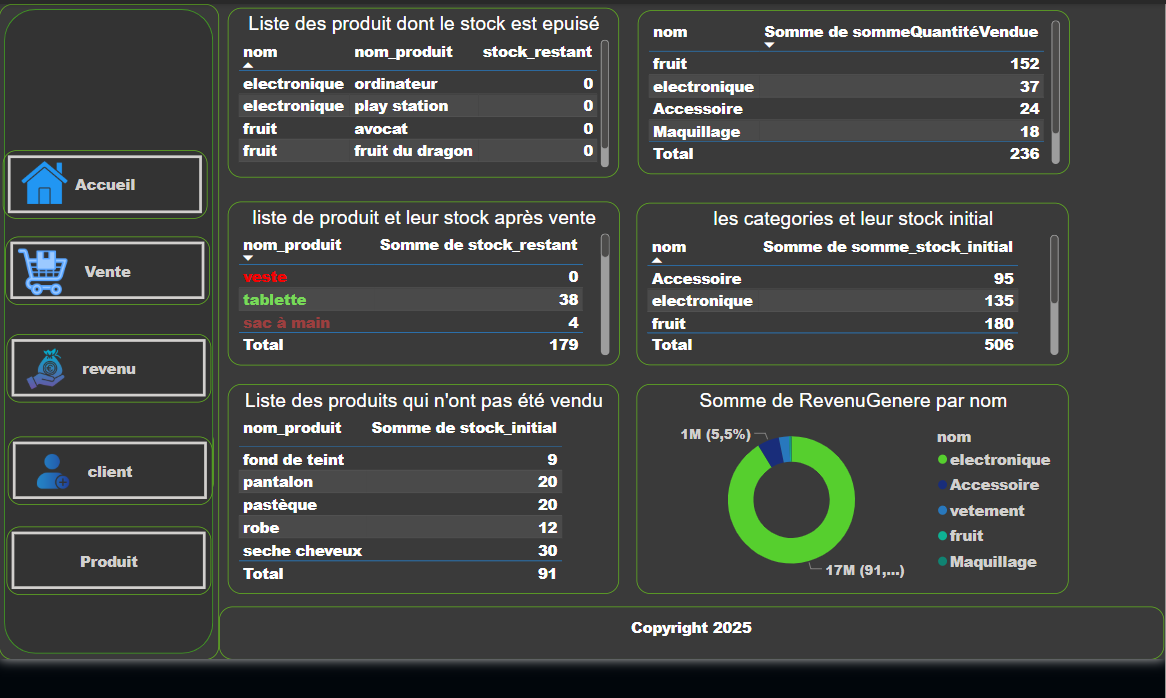

Layout of this report page (visuals, bound fields, positions):
{"tool":"powerbi","page":{"name":"produit","canvas":[1280,720],"ordinal":1},"visuals":[{"type":"tableEx","fields":{"Values":["topProduitMensuel.mois","topProduitMensuel.nom_produit","Sum(topProduitMensuel.total_quantite)"]},"box":[232.3,440.4,354.9,279.4],"z":0},{"type":"tableEx","fields":{"Values":["topProduitMensuelRevenu.mois","topProduitMensuelRevenu.nom_produit","Sum(topProduitMensuelRevenu.revenu_genere)","Sum(topProduitMensuelRevenu.total_quantite)"]},"box":[0,201,510.3,202.4],"z":1000},{"type":"tableEx","fields":{"Values":["stock_restant.nom","stock_restant.nom_produit","stock_restant.stock_initial","stock_restant.sommeQuantitéVendue","stock_restant.stock_restant"]},"box":[0,0,640,339.2],"z":2000},{"type":"clusteredColumnChart","title":"repartition","fields":{"Category":["repartition_quantité_categorie.nom"],"Y":["Sum(repartition_quantité_categorie.Expr1)"]},"box":[0,403.4,510.3,316.4],"z":3000},{"type":"clusteredColumnChart","fields":{"Category":["stock_restant.nom_produit"],"Y":["Sum(stock_restant.sommeQuantitéVendue)"]},"box":[0,320.7,640,399.1],"z":4000},{"type":"tableEx","title":"Liste de produit dont le stock est vide","fields":{"Values":["stock_restant.nom_produit","Sum(stock_restant.stock_restant)"]},"box":[960.7,155.4,319.3,195.3],"z":5000},{"type":"tableEx","fields":{"Values":["stock_restant.nom","Sum(stock_restant.stock_initial)","Sum(stock_restant.sommeQuantitéVendue)"]},"box":[640,0,640,155.4],"z":6000},{"type":"tableEx","fields":{"Values":["information_vente.nom","information_vente.nom_produit","Sum(information_vente.sommeQuantite)"]},"box":[640,320.7,453.3,374.9],"z":7000},{"type":"tableEx","fields":{"Values":["Repartition_revenu_categorie.nom","Sum(Repartition_revenu_categorie.revenu_genere)"]},"box":[640,169.6,320.7,151.1],"z":8000},{"type":"slicer","fields":{"Values":["stock_restant.nom"]},"box":[1093,351,187,345],"z":9000}]}

Visuals, with their boxes on the page's 1280x720 design canvas (x1, y1, x2, y2). These are canvas units, not pixel positions in the 1166x698 screenshot, which may show the page scaled, cropped or inside an application window:
tableEx - topProduitMensuel.mois x topProduitMensuel.nom_produit: <region>232, 440, 587, 720</region>
tableEx - topProduitMensuelRevenu.mois x topProduitMensuelRevenu.nom_produit: <region>0, 201, 510, 403</region>
tableEx - stock_restant.nom x stock_restant.nom_produit: <region>0, 0, 640, 339</region>
"repartition" clusteredColumnChart: <region>0, 403, 510, 720</region>
clusteredColumnChart - stock_restant.nom_produit x Sum(stock_restant.sommeQuantitéVendue): <region>0, 321, 640, 720</region>
"Liste de produit dont le stock est vide" tableEx: <region>961, 155, 1280, 351</region>
tableEx - stock_restant.nom x Sum(stock_restant.stock_initial): <region>640, 0, 1280, 155</region>
tableEx - information_vente.nom x information_vente.nom_produit: <region>640, 321, 1093, 696</region>
tableEx - Repartition_revenu_categorie.nom x Sum(Repartition_revenu_categorie.revenu_genere): <region>640, 170, 961, 321</region>
slicer - stock_restant.nom: <region>1093, 351, 1280, 696</region>
